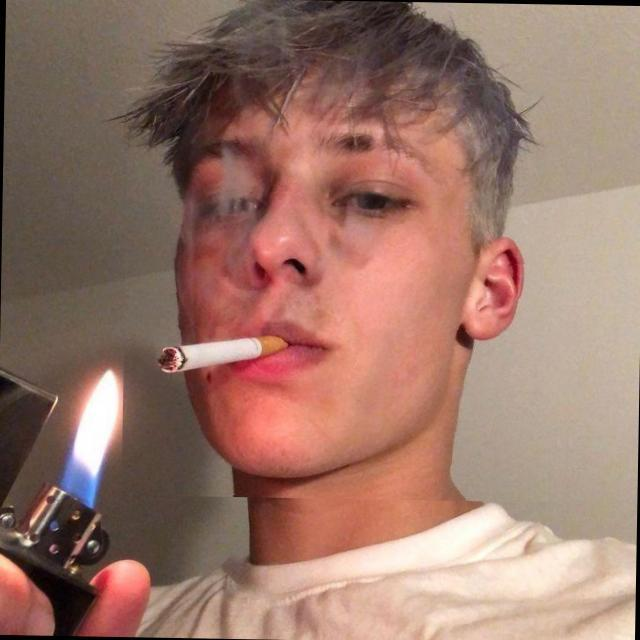cigarette: (137, 330, 330, 399)
